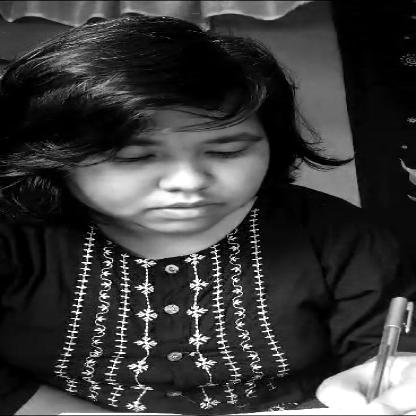Normal: (46, 70, 282, 234)
